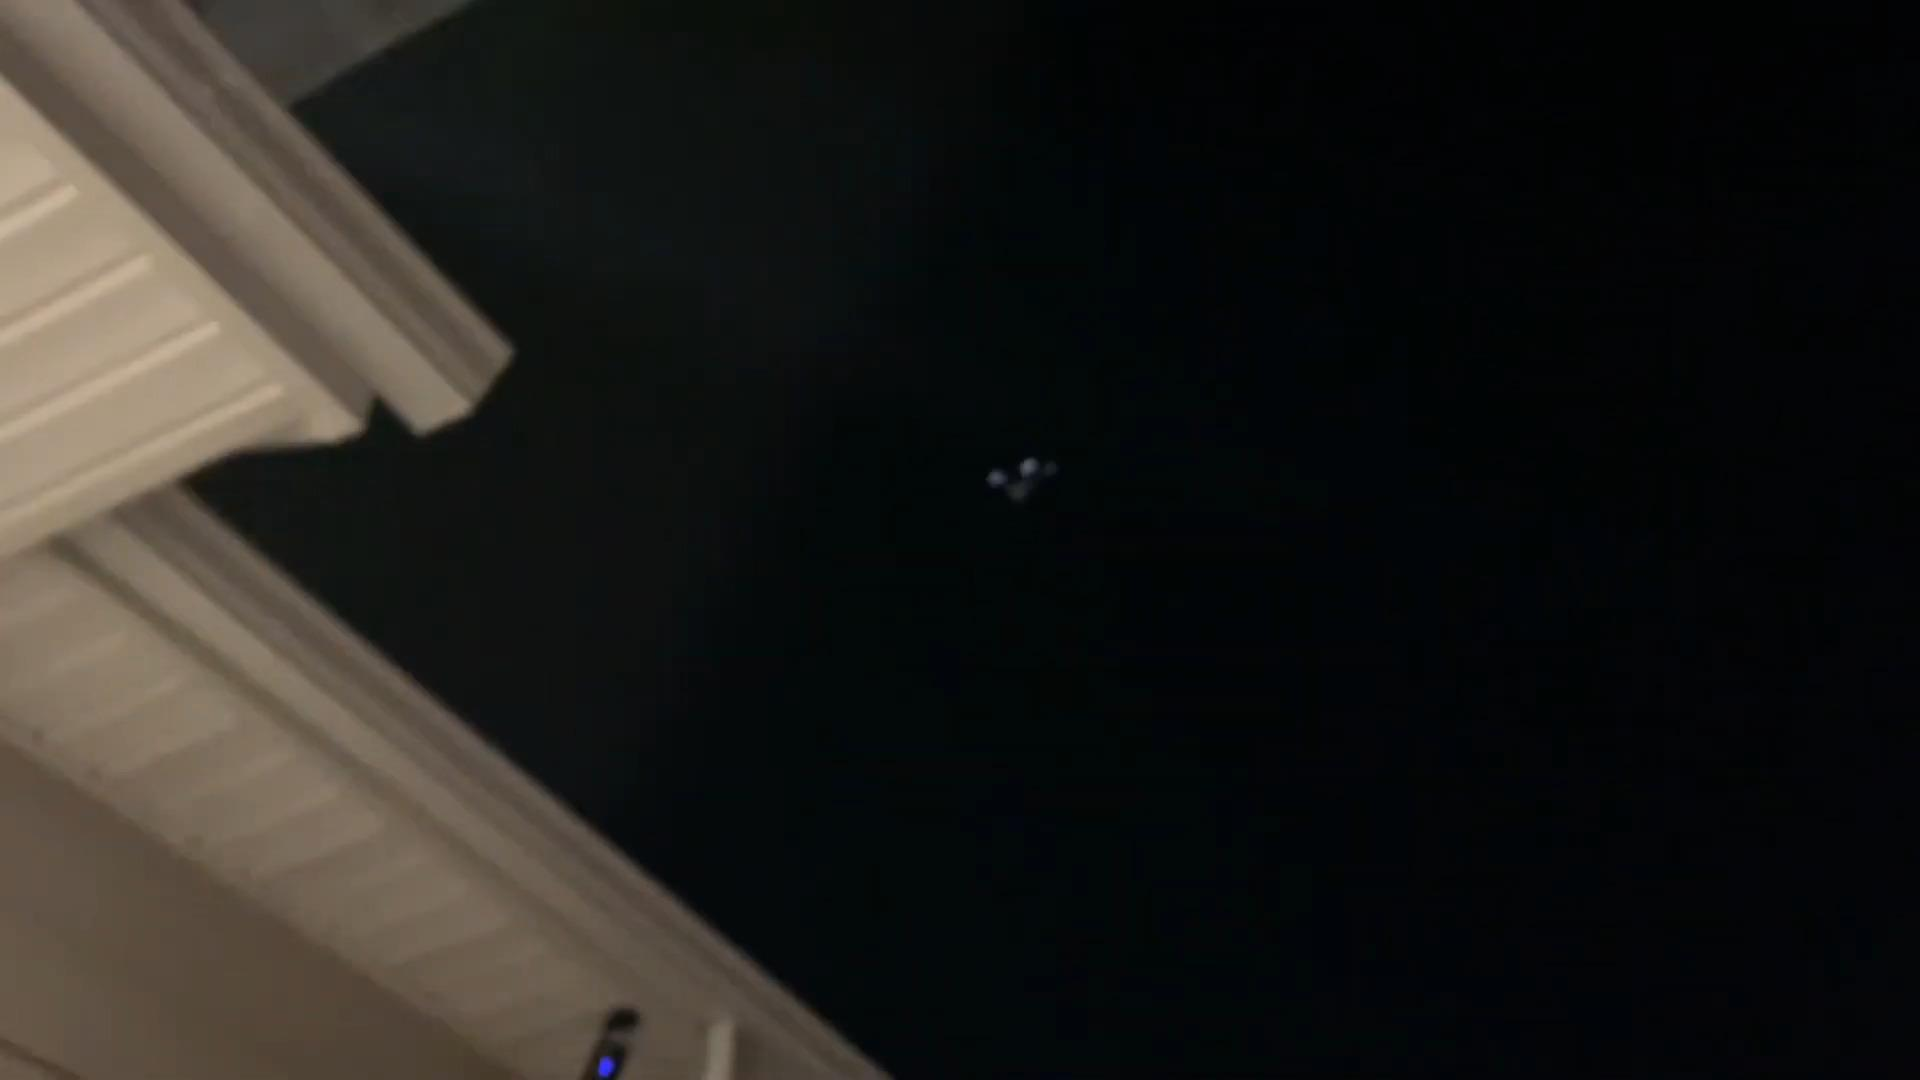Plane: (988, 440, 1056, 505)
